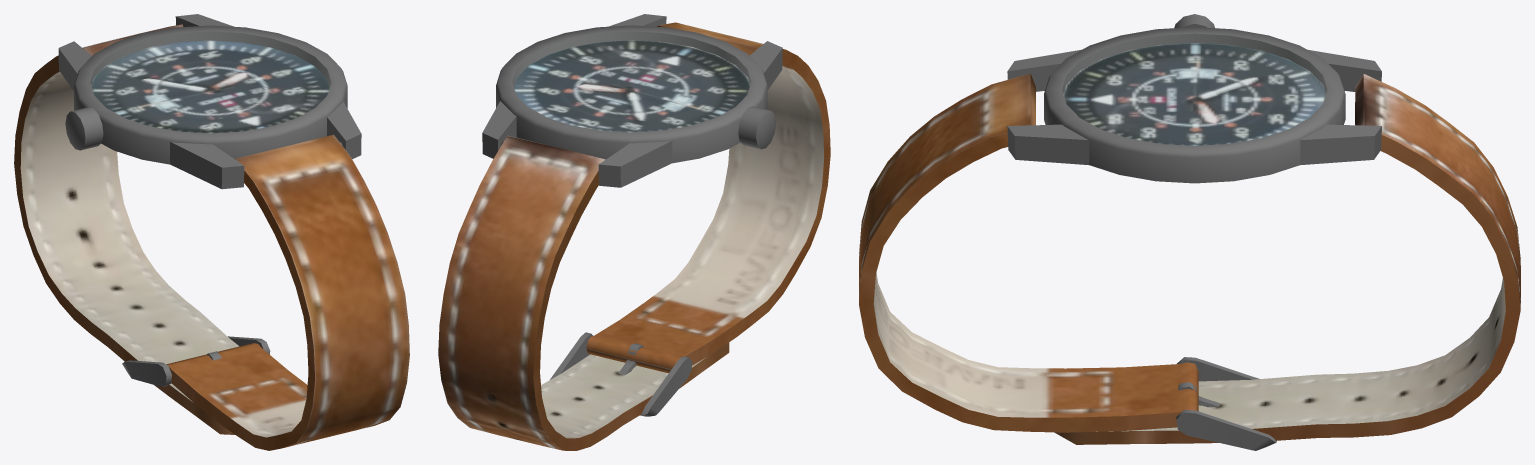
Rendered from sweethome3d-scopia-watch-252.glb.
3 renders of one model, left to right at view 1: azimuth 30°, elevation 25°; view 2: azimuth 150°, elevation 25°; view 3: azimuth 270°, elevation 25°, orthographic. The views are drawn at different scales.
Visible parts, largest first — view 1: belt_Plane.001, glass_Circle.001, sphere_Circle, buckle_Cube, watchhands_Plane.000; view 2: belt_Plane.001, glass_Circle.001, sphere_Circle, buckle_Cube, watchhands_Plane.000; view 3: belt_Plane.001, sphere_Circle, glass_Circle.001, buckle_Cube.
Part boxes in pixels (x1,y1,x2,y2): belt_Plane.001: (14, 24, 409, 450); glass_Circle.001: (91, 32, 330, 132); sphere_Circle: (58, 14, 361, 189); buckle_Cube: (122, 336, 270, 386); watchhands_Plane.000: (142, 73, 246, 91); belt_Plane.001: (438, 22, 830, 450); glass_Circle.001: (513, 32, 750, 131); sphere_Circle: (482, 14, 782, 187); buckle_Cube: (550, 332, 692, 416); watchhands_Plane.000: (578, 84, 645, 120); belt_Plane.001: (859, 43, 1520, 444); sphere_Circle: (1007, 14, 1381, 183); glass_Circle.001: (1062, 34, 1326, 145); buckle_Cube: (1176, 357, 1276, 450).
Size of the model in its own units: 4.27 by 4.89 by 8.67.
Materials: 5 (3 with a texture image).
